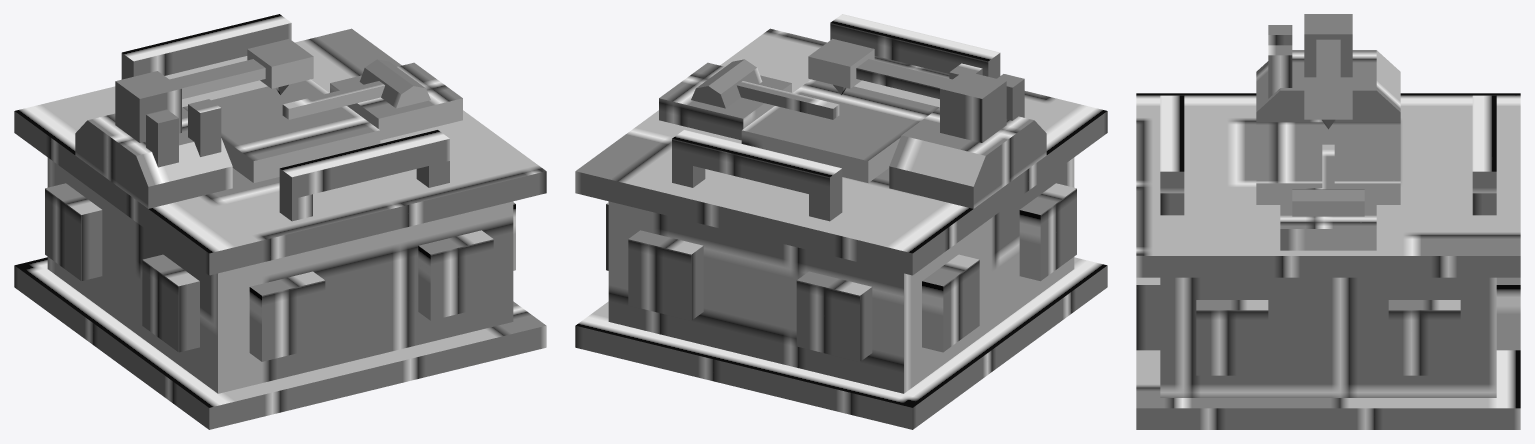
Rendered from soldering_station.obj.
3 views of the same model, side by side, from view 1: azimuth 30°, elevation 25°; view 2: azimuth 150°, elevation 25°; view 3: azimuth 270°, elevation 25° (orthographic).
Parts seen in each view (by area): view 1: mesh; view 2: mesh; view 3: mesh.
Boxes of the visible parts, box(x1,y1,x2,y2) form: mesh: box(14, 14, 546, 429); mesh: box(575, 14, 1107, 429); mesh: box(1136, 14, 1520, 429).
Bounding box in the file's own units: 2 × 1.5 × 2.
